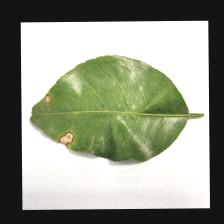canker: (37, 85, 90, 149)
